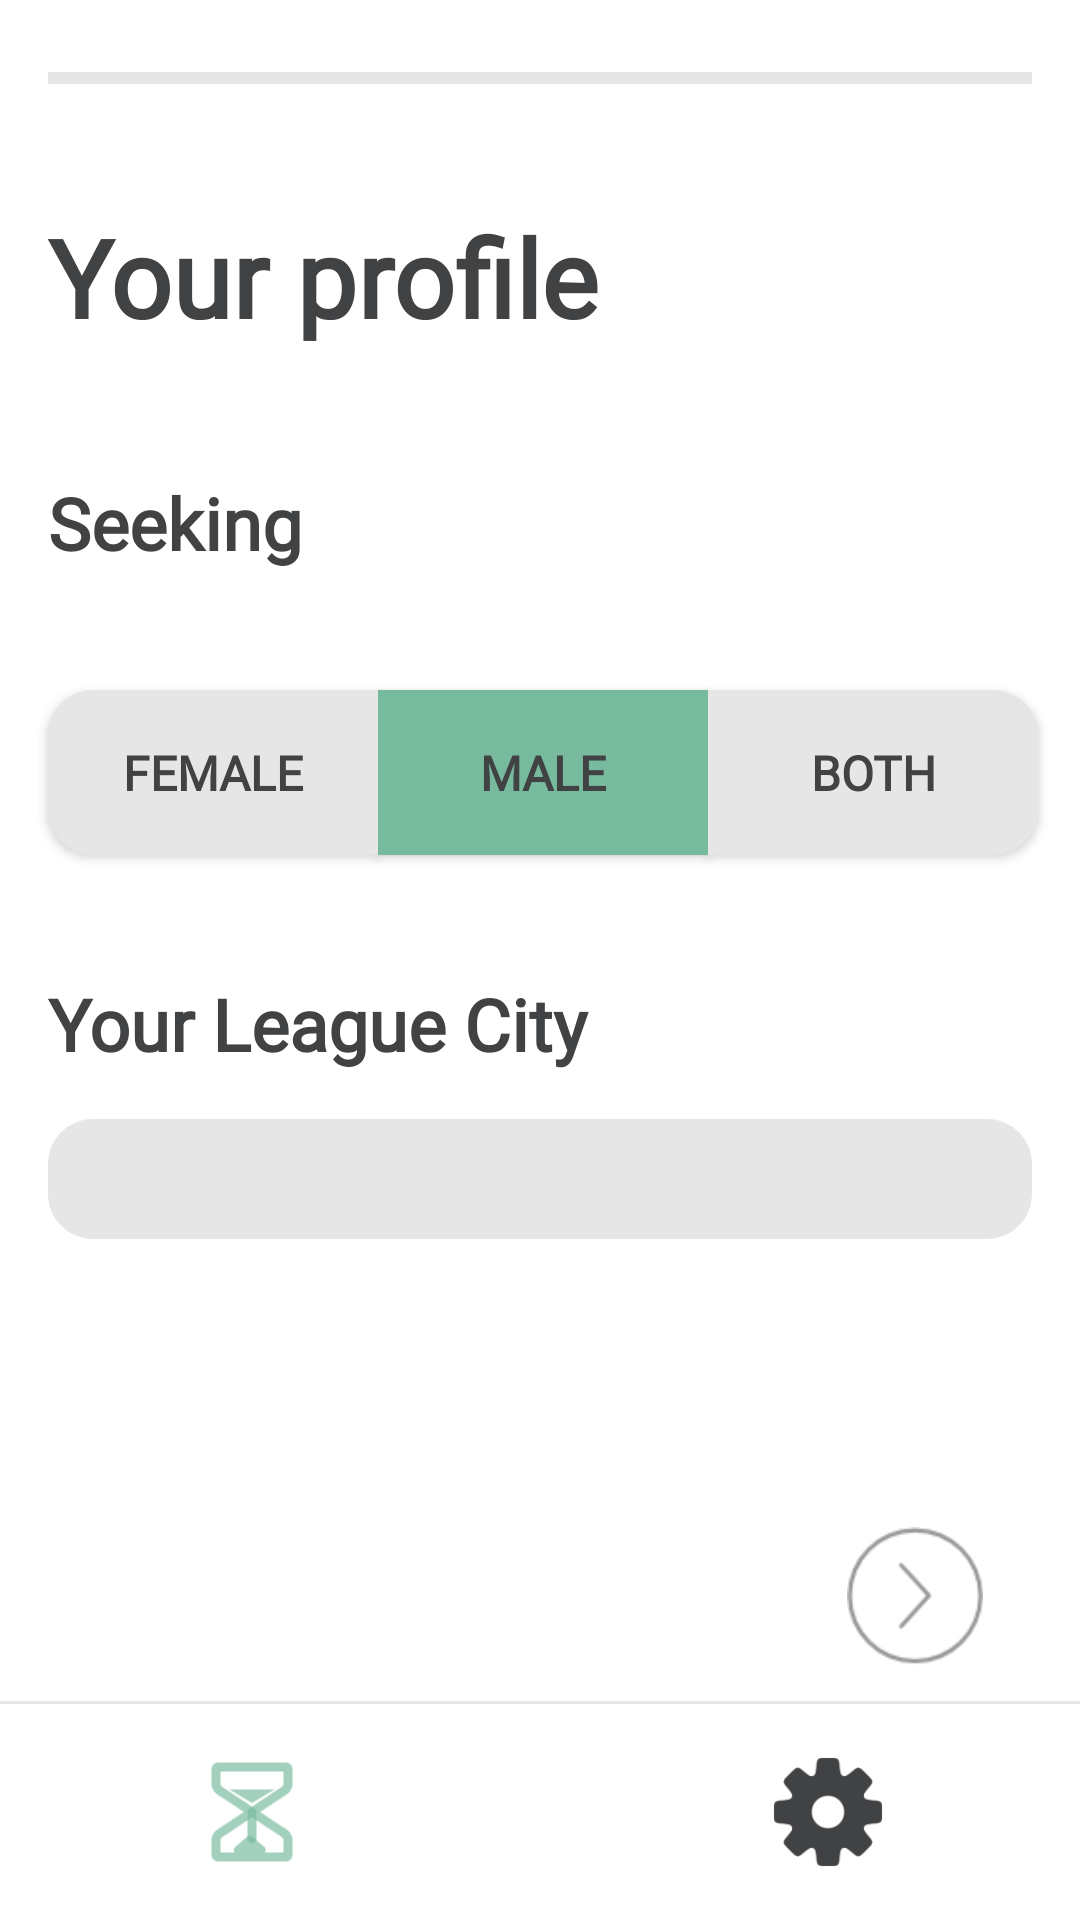

Locate icon controls on the screen. Image size 1080 x 1920, boxes as (x1, y1, x2, y2).
next: (847, 1527, 983, 1664)
